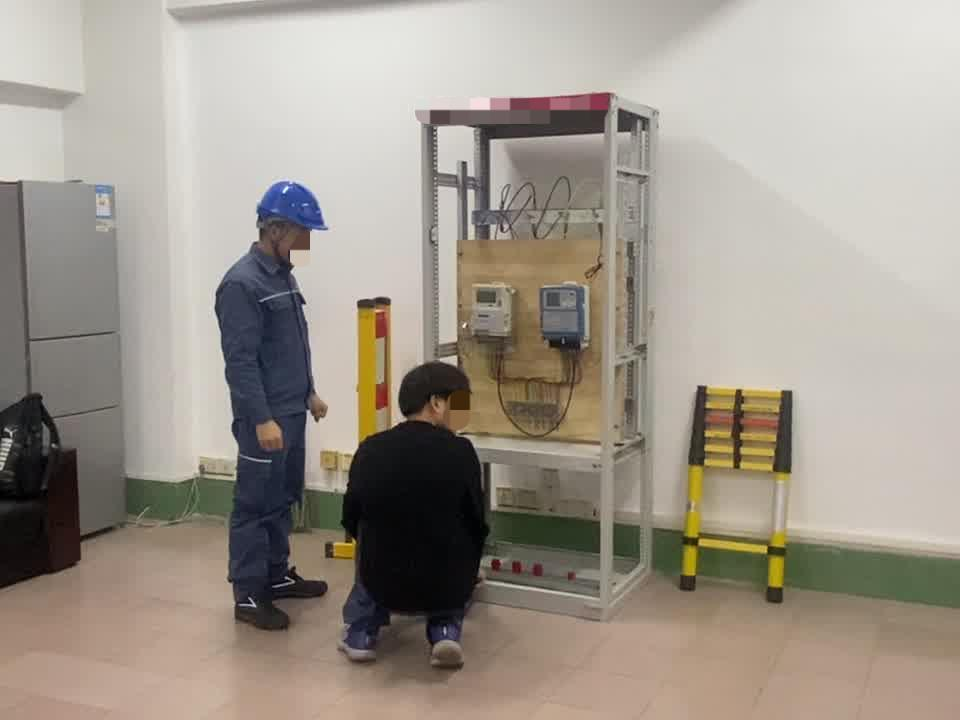halt: (256, 184, 329, 264)
inear: (263, 221, 296, 258)
noear: (428, 392, 460, 424)
unhalt: (400, 366, 477, 430)
